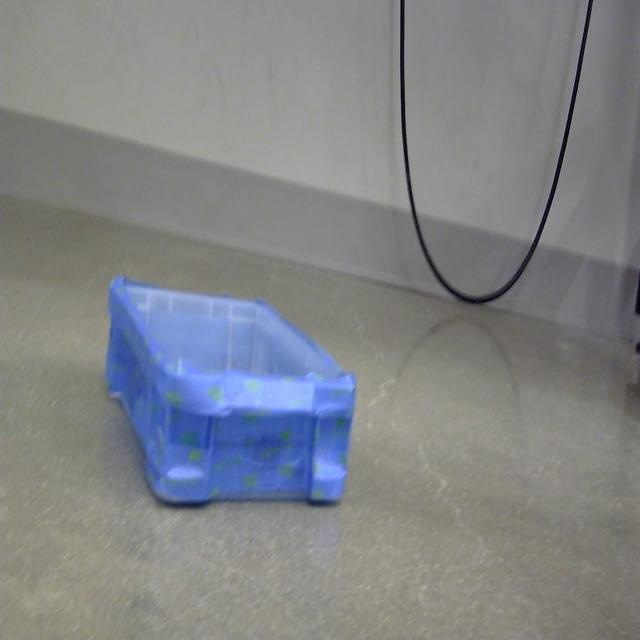bucket: (104, 278, 358, 510)
